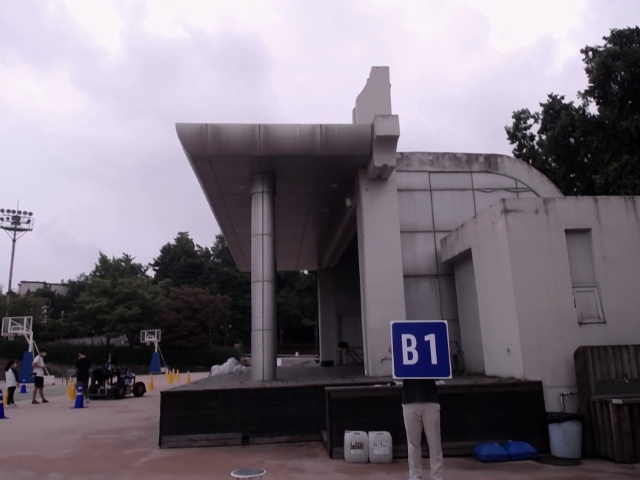delivery_b1: (390, 320, 452, 379)
